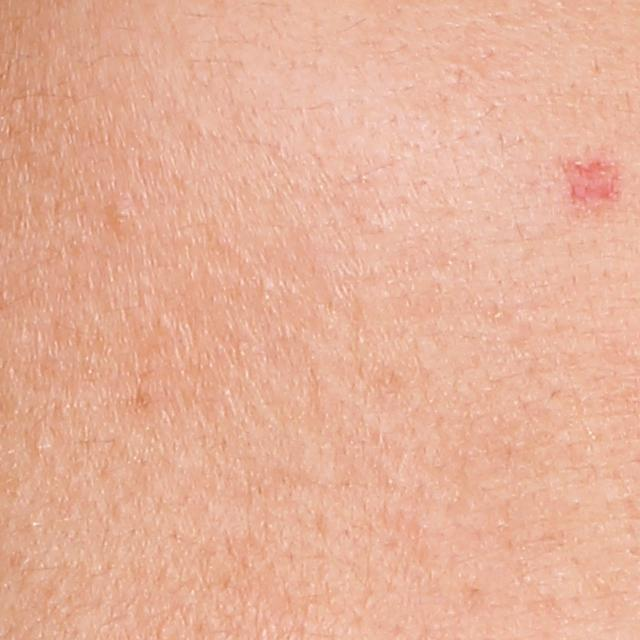comedo: (106, 202, 140, 238)
other: (554, 151, 636, 216)
